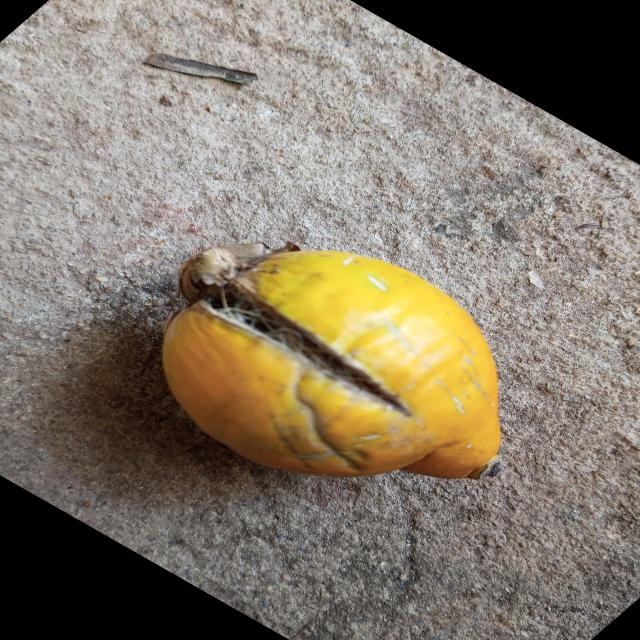damaged: (163, 242, 500, 479)
